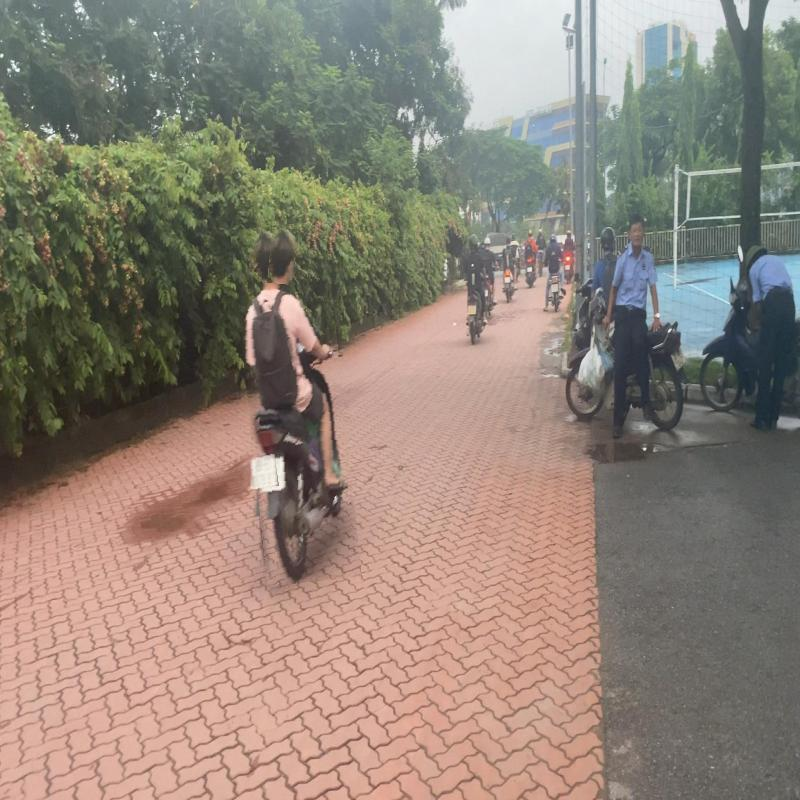licenseplate: (250, 455, 278, 489)
motorcyclist: (239, 224, 352, 584)
nohelmet: (268, 228, 298, 284)
